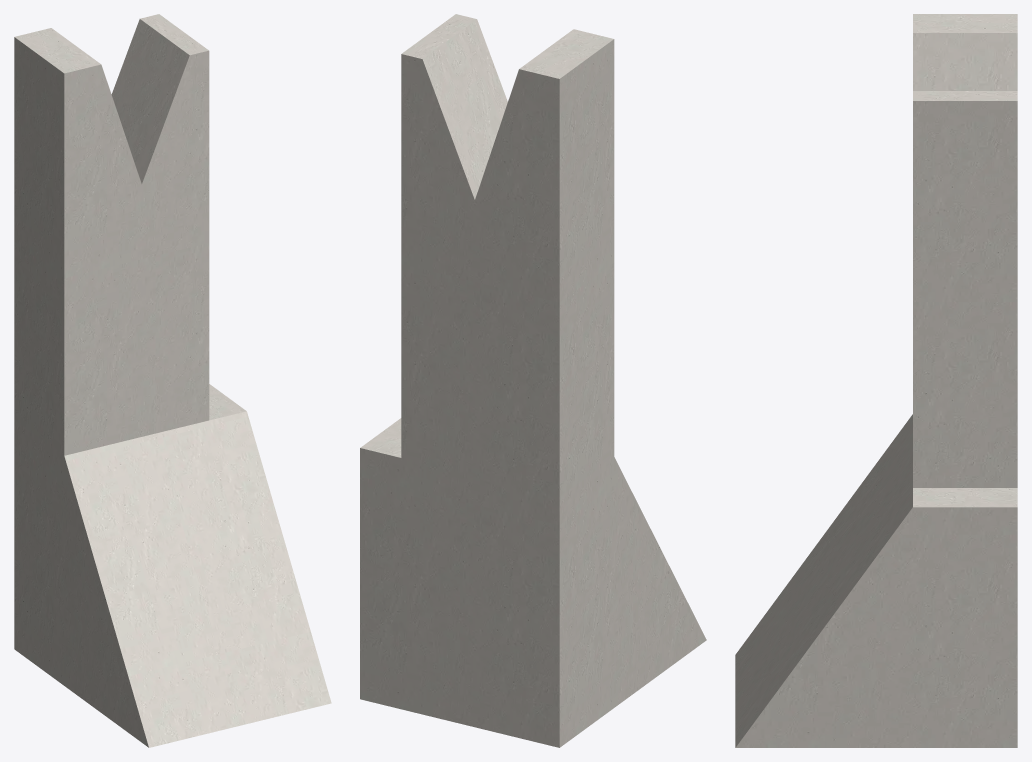
The model's file is dama_bila.glb.
The picture shows the model from 3 angles, left to right: view 1: azimuth 30°, elevation 25°; view 2: azimuth 150°, elevation 25°; view 3: azimuth 270°, elevation 25°; orthographic projection. The views are drawn at different scales.
Parts seen in each view (by area): view 1: dama_bila; view 2: dama_bila; view 3: dama_bila.
Part boxes in pixels (<box>): dama_bila: <box>14,14,331,747</box>; dama_bila: <box>360,14,706,747</box>; dama_bila: <box>735,14,1017,747</box>.
Size of the model in its own units: 0.03 by 0.0961 by 0.0384.
1 material, 1 textured.
